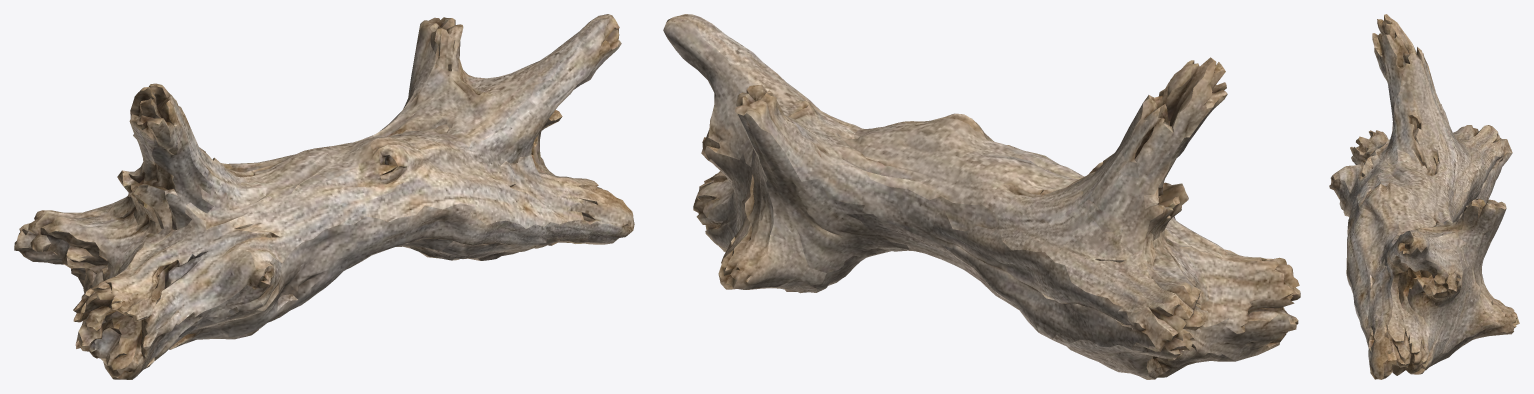
The model's file is driftwood_lite.glb.
The picture shows the model from 3 angles, left to right: view 1: azimuth 30°, elevation 25°; view 2: azimuth 150°, elevation 25°; view 3: azimuth 270°, elevation 25°; orthographic projection. The views are drawn at different scales.
Parts seen in each view (by area): view 1: geometry_0; view 2: geometry_0; view 3: geometry_0.
Boxes of the visible parts, x1=… form: geometry_0: x1=14, y1=14, x2=634, y2=379; geometry_0: x1=663, y1=14, x2=1300, y2=379; geometry_0: x1=1329, y1=14, x2=1519, y2=379.
Bounding box in the file's own units: 1.9 × 0.8652 × 0.742.
1 material, 1 textured.
